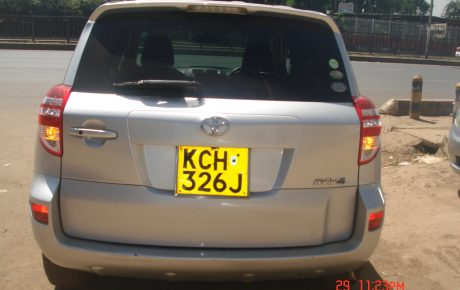licencePlate: (173, 143, 249, 200)
